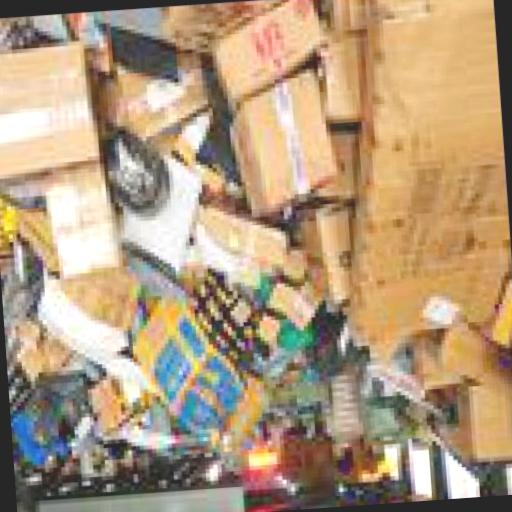cardboard: (318, 0, 512, 349), (102, 53, 246, 314), (126, 284, 270, 456), (222, 67, 338, 221), (0, 43, 103, 204), (202, 0, 330, 115), (185, 262, 292, 384), (32, 256, 142, 372), (96, 47, 208, 147), (0, 14, 111, 87), (42, 166, 110, 282), (288, 206, 356, 313), (192, 206, 290, 276), (166, 2, 278, 62), (437, 318, 512, 395), (312, 32, 368, 131), (92, 32, 184, 90), (450, 382, 512, 467), (296, 316, 364, 384), (260, 267, 326, 332), (8, 325, 73, 390), (0, 190, 52, 271), (82, 388, 152, 444), (304, 133, 356, 204), (150, 111, 210, 171), (474, 274, 512, 360), (91, 8, 177, 46), (363, 404, 433, 448), (410, 334, 458, 394), (98, 360, 150, 411), (322, 0, 365, 43), (226, 450, 279, 478), (276, 316, 314, 354), (272, 250, 302, 290), (252, 318, 283, 352), (357, 379, 394, 401)
